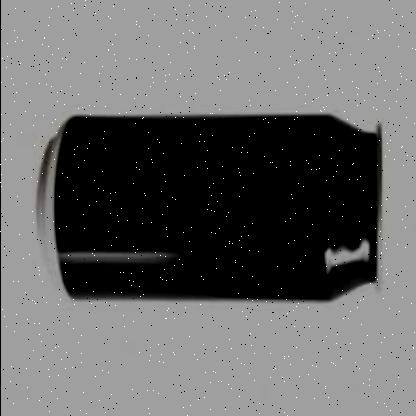Can: (41, 113, 383, 299)
